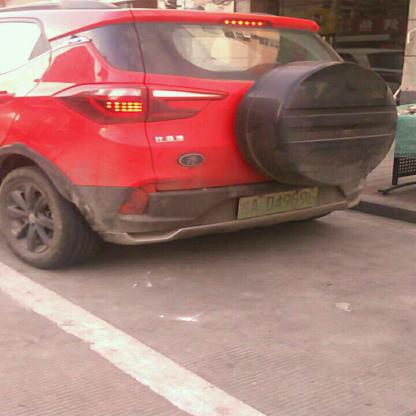lp: (237, 186, 318, 218)
